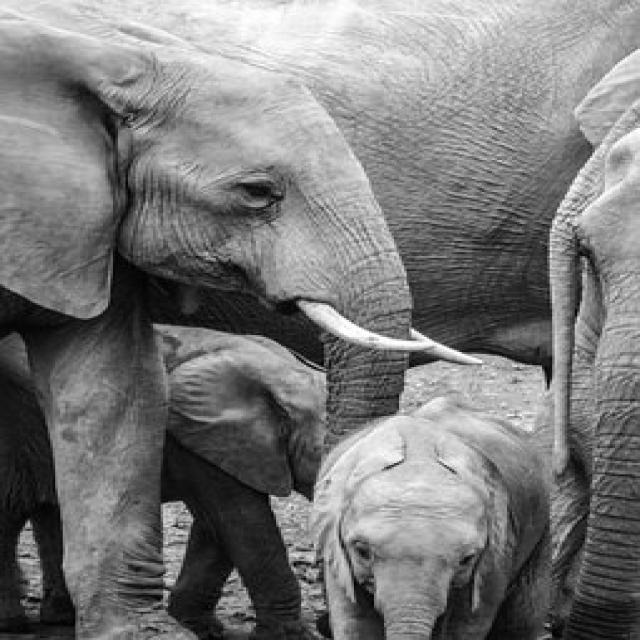Elephant: (1, 7, 456, 640), (233, 391, 544, 640)
